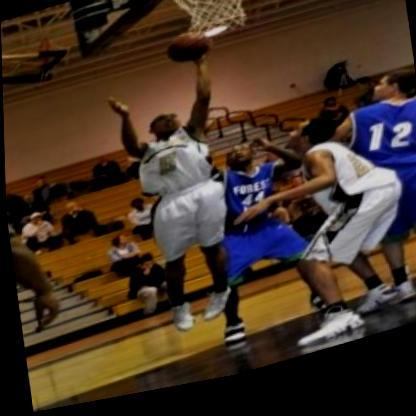basketball: (158, 26, 218, 81)
